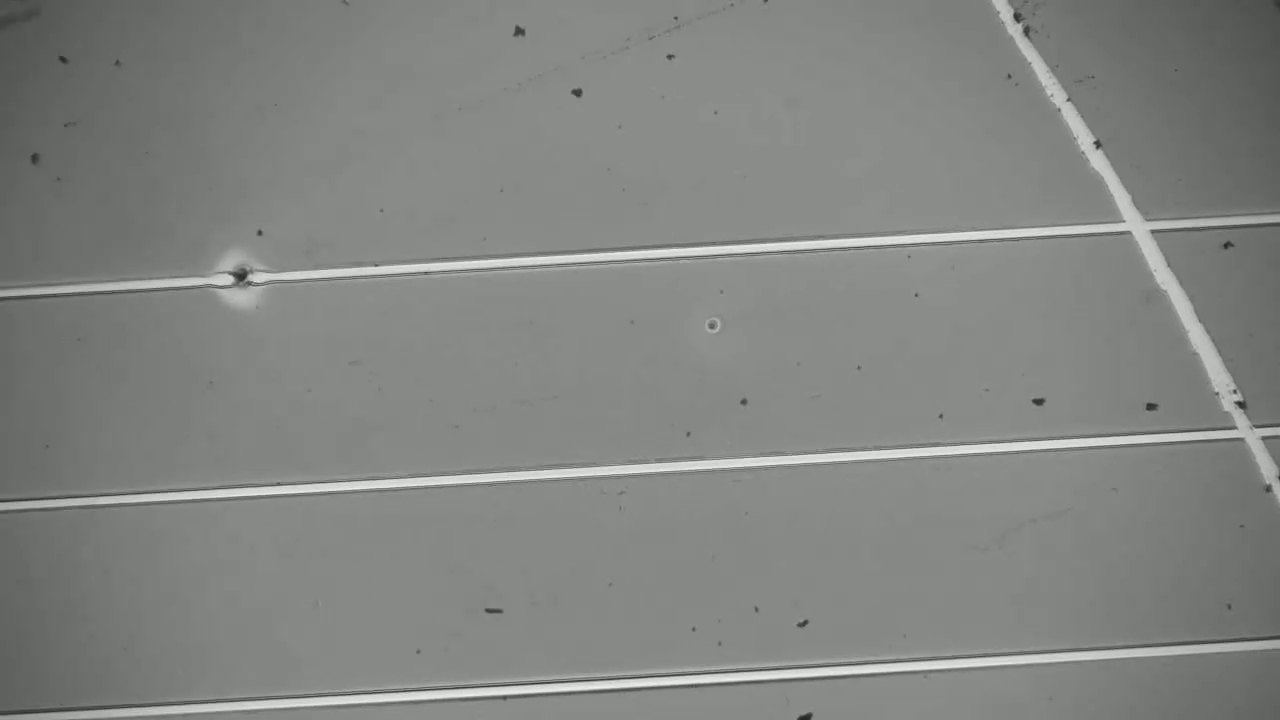stains_enbedded: (212, 255, 272, 309)
